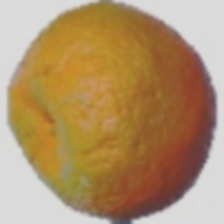tangerine: (49, 5, 217, 187)
